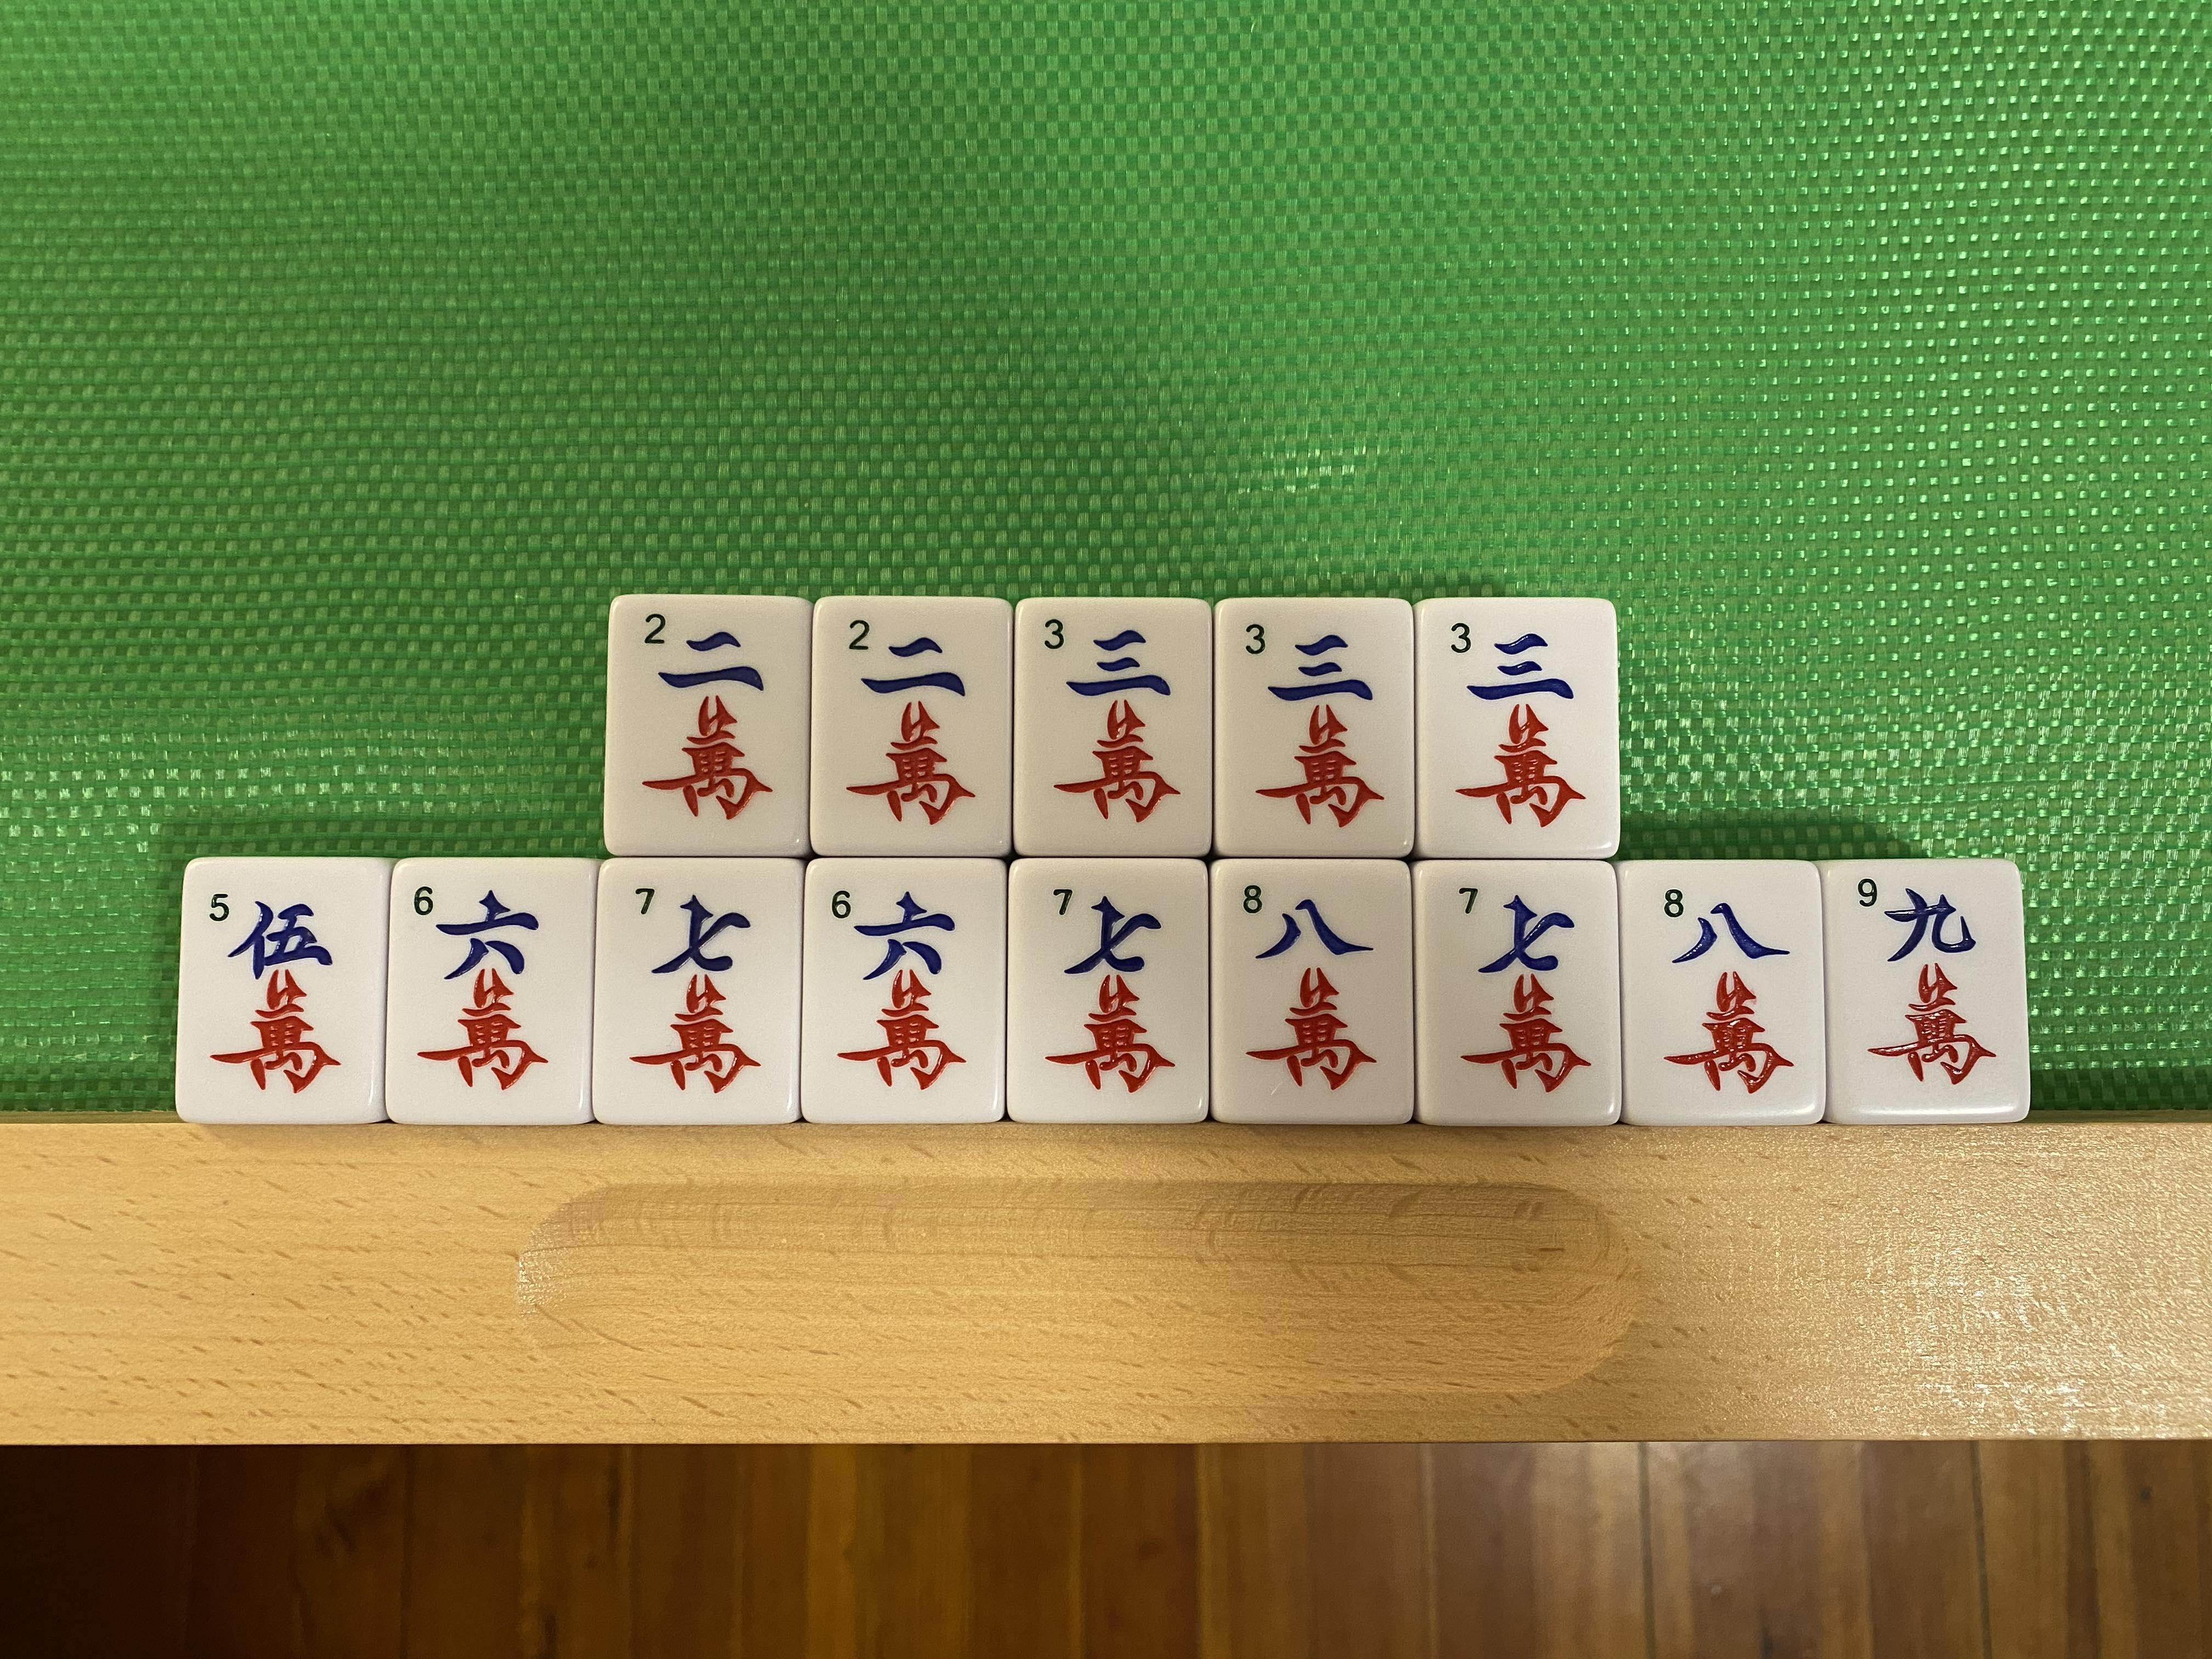character-eight: (1214, 859, 1411, 1121), (1623, 864, 1820, 1124)
character-five: (179, 859, 387, 1121)
character-nine: (1831, 861, 2015, 1121)
character-seven: (1418, 859, 1622, 1126), (1008, 863, 1211, 1121), (601, 861, 798, 1121)
character-six: (388, 859, 594, 1124), (808, 859, 1003, 1121)
character-three: (1420, 599, 1616, 854), (1015, 599, 1211, 856), (1216, 601, 1413, 854)
character-two: (608, 596, 806, 854), (812, 598, 1010, 854)
